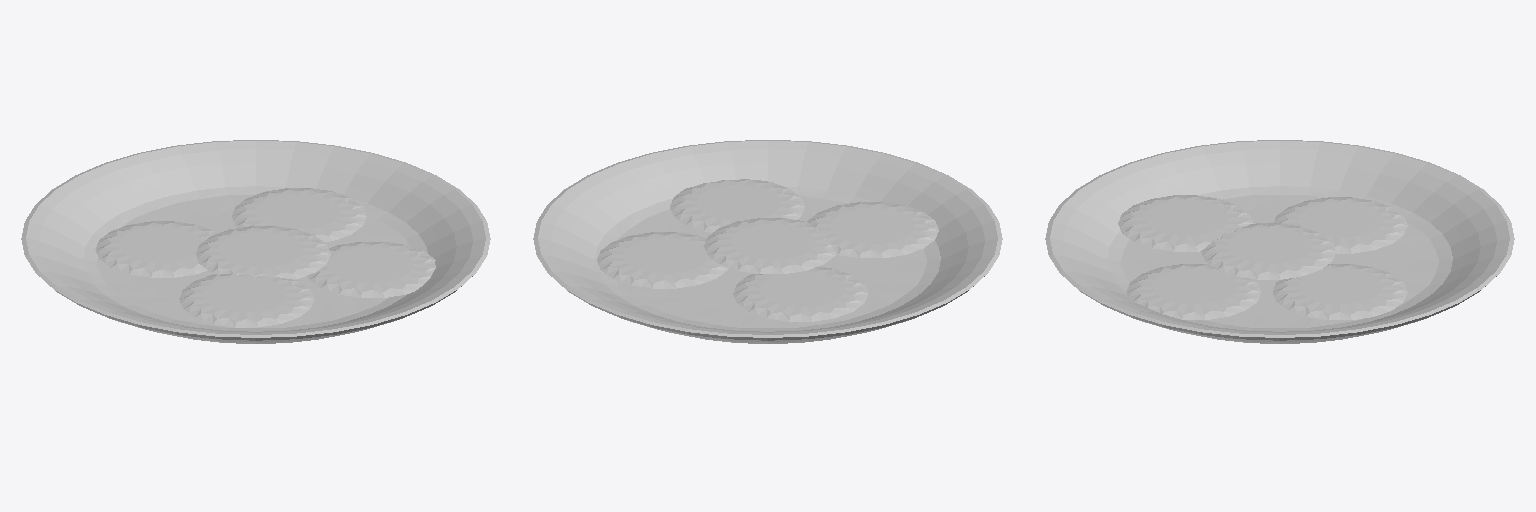
Rendered from KUE BULAN.obj.
The picture shows the model from 3 angles: view 1: azimuth 30°, elevation 25°; view 2: azimuth 150°, elevation 25°; view 3: azimuth 270°, elevation 25°; orthographic projection.
Parts seen in each view (by area): view 1: Cylinder, Cylinder.007_Cylinder.008, Cylinder.009_Cylinder.012, Cylinder.005_Cylinder.006, Cylinder.001_Cylinder.002, Cylinder.003_Cylinder.004, Cylinder.006_Cylinder.007, Cylinder.008_Cylinder.009, Cylinder.010_Cylinder.013, Cylinder.004_Cylinder.005, Cylinder.002_Cylinder.003; view 2: Cylinder, Cylinder.009_Cylinder.012, Cylinder.001_Cylinder.002, Cylinder.003_Cylinder.004, Cylinder.007_Cylinder.008, Cylinder.005_Cylinder.006, Cylinder.010_Cylinder.013, Cylinder.008_Cylinder.009, Cylinder.004_Cylinder.005, Cylinder.006_Cylinder.007, Cylinder.002_Cylinder.003; view 3: Cylinder, Cylinder.009_Cylinder.012, Cylinder.003_Cylinder.004, Cylinder.005_Cylinder.006, Cylinder.007_Cylinder.008, Cylinder.001_Cylinder.002, Cylinder.008_Cylinder.009, Cylinder.010_Cylinder.013, Cylinder.006_Cylinder.007, Cylinder.004_Cylinder.005, Cylinder.002_Cylinder.003.
Boxes of the visible parts, x1=… form: Cylinder: x1=21, y1=140, x2=490, y2=343; Cylinder.007_Cylinder.008: x1=179, y1=274, x2=314, y2=327; Cylinder.009_Cylinder.012: x1=196, y1=226, x2=330, y2=279; Cylinder.005_Cylinder.006: x1=307, y1=242, x2=435, y2=297; Cylinder.001_Cylinder.002: x1=95, y1=221, x2=217, y2=277; Cylinder.003_Cylinder.004: x1=232, y1=188, x2=366, y2=241; Cylinder.006_Cylinder.007: x1=328, y1=247, x2=412, y2=282; Cylinder.008_Cylinder.009: x1=202, y1=277, x2=287, y2=311; Cylinder.010_Cylinder.013: x1=218, y1=232, x2=303, y2=266; Cylinder.004_Cylinder.005: x1=255, y1=194, x2=339, y2=228; Cylinder.002_Cylinder.003: x1=118, y1=227, x2=201, y2=262; Cylinder: x1=533, y1=140, x2=1002, y2=343; Cylinder.009_Cylinder.012: x1=704, y1=218, x2=835, y2=273; Cylinder.001_Cylinder.002: x1=733, y1=266, x2=867, y2=321; Cylinder.003_Cylinder.004: x1=597, y1=232, x2=728, y2=288; Cylinder.007_Cylinder.008: x1=807, y1=202, x2=938, y2=257; Cylinder.005_Cylinder.006: x1=670, y1=179, x2=804, y2=232; Cylinder.010_Cylinder.013: x1=730, y1=224, x2=815, y2=259; Cylinder.008_Cylinder.009: x1=830, y1=208, x2=914, y2=243; Cylinder.004_Cylinder.005: x1=623, y1=238, x2=707, y2=273; Cylinder.006_Cylinder.007: x1=696, y1=185, x2=781, y2=219; Cylinder.002_Cylinder.003: x1=759, y1=272, x2=844, y2=306; Cylinder: x1=1045, y1=140, x2=1514, y2=343; Cylinder.009_Cylinder.012: x1=1201, y1=223, x2=1336, y2=279; Cylinder.003_Cylinder.004: x1=1273, y1=264, x2=1407, y2=319; Cylinder.005_Cylinder.006: x1=1126, y1=264, x2=1261, y2=319; Cylinder.007_Cylinder.008: x1=1118, y1=195, x2=1252, y2=251; Cylinder.001_Cylinder.002: x1=1274, y1=197, x2=1407, y2=253; Cylinder.008_Cylinder.009: x1=1144, y1=200, x2=1228, y2=235; Cylinder.010_Cylinder.013: x1=1227, y1=228, x2=1311, y2=263; Cylinder.006_Cylinder.007: x1=1152, y1=269, x2=1236, y2=303; Cylinder.004_Cylinder.005: x1=1298, y1=269, x2=1383, y2=303; Cylinder.002_Cylinder.003: x1=1298, y1=202, x2=1383, y2=237.
Size of the model in its own units: 2.31 by 0.1971 by 2.31.